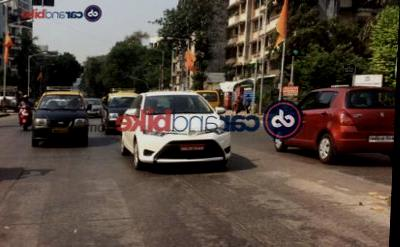License_Plate: (177, 139, 208, 152)
